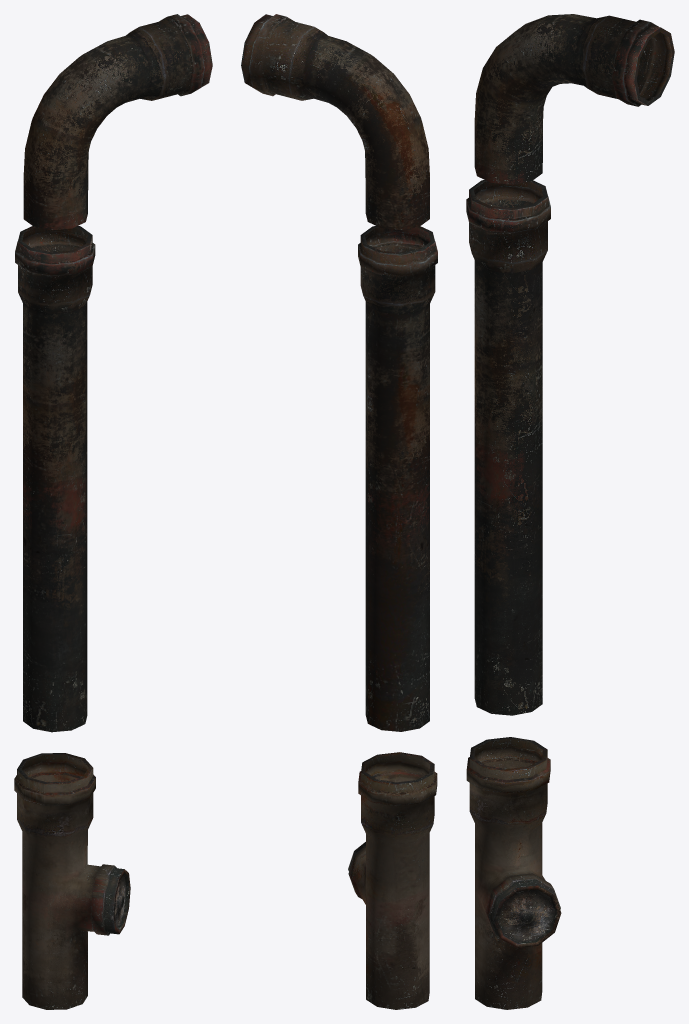
3 renders of one model, left to right at view 1: azimuth 30°, elevation 25°; view 2: azimuth 150°, elevation 25°; view 3: azimuth 330°, elevation 25°, orthographic. The views are drawn at different scales.
Parts seen in each view (by area): view 1: polySurface1048, polySurface1049, polySurface1050; view 2: polySurface1048, polySurface1050, polySurface1049; view 3: polySurface1048, polySurface1049, polySurface1050.
Boxes of the visible parts, <box> form: polySurface1048: <box>15,226,95,732</box>; polySurface1049: <box>14,753,130,1009</box>; polySurface1050: <box>23,14,212,230</box>; polySurface1048: <box>358,226,437,731</box>; polySurface1050: <box>241,14,429,229</box>; polySurface1049: <box>348,752,437,1009</box>; polySurface1048: <box>466,180,550,715</box>; polySurface1049: <box>466,737,561,1009</box>; polySurface1050: <box>474,14,674,184</box>.
Size of the model in its own units: 1.59 by 8.28 by 0.8981.
1 material, 1 textured.
